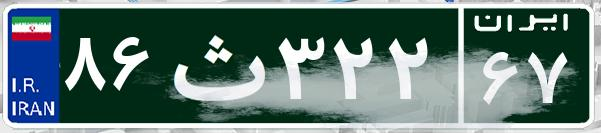2: (385, 28, 445, 110), (330, 28, 385, 110)
3: (273, 28, 330, 110)
6: (475, 38, 525, 113), (110, 28, 158, 105)
7: (525, 38, 570, 115)
8: (57, 26, 110, 107)
ث: (158, 15, 273, 115)
